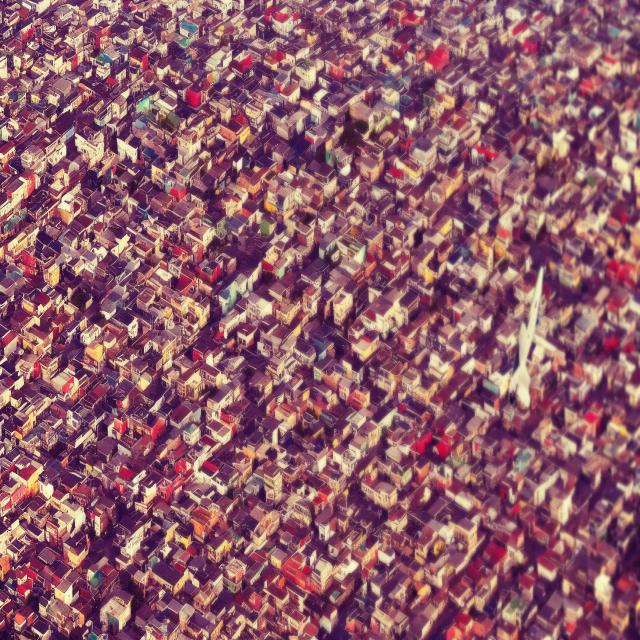airplane: (506, 268, 546, 402)
